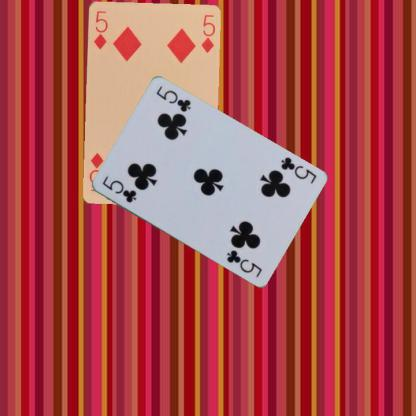5c: (278, 154, 317, 186), (100, 174, 138, 204)
5d: (91, 8, 109, 50)
